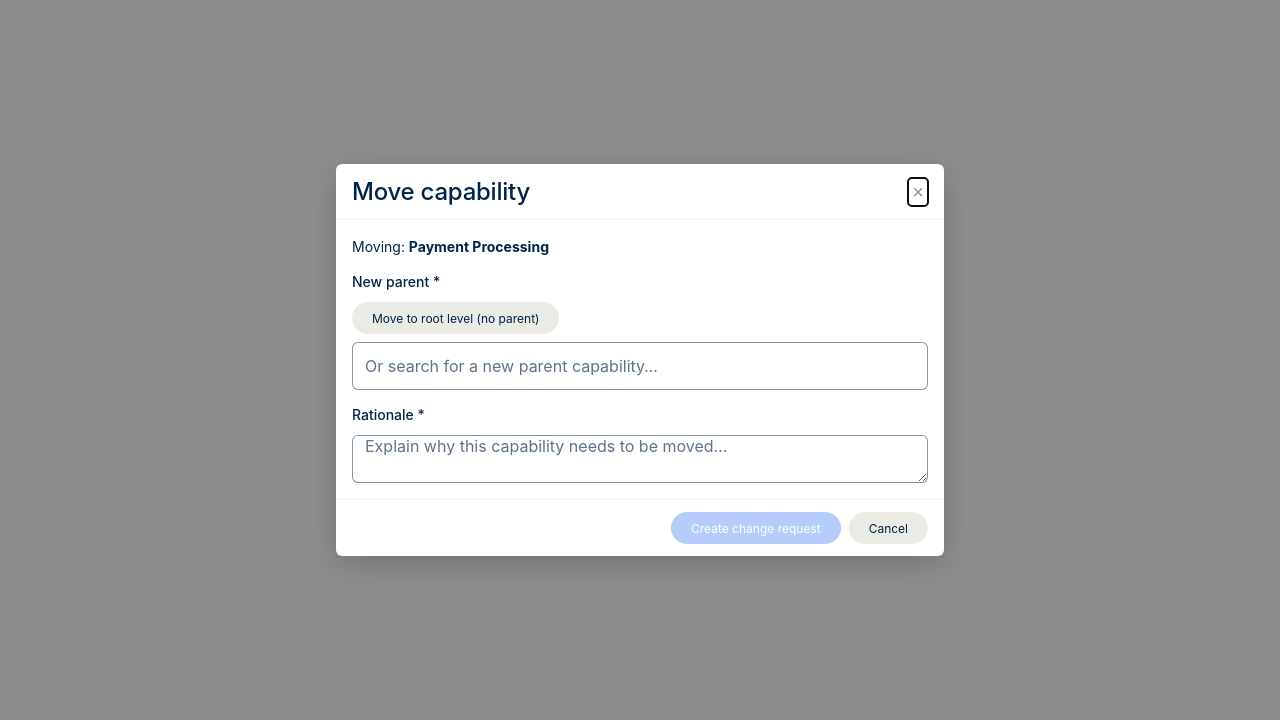
Test case: ReparentDialog › should enable submit after selecting root level
Click the button "Move to root level (no parent)" at (456, 318), box [352,302,560,334]
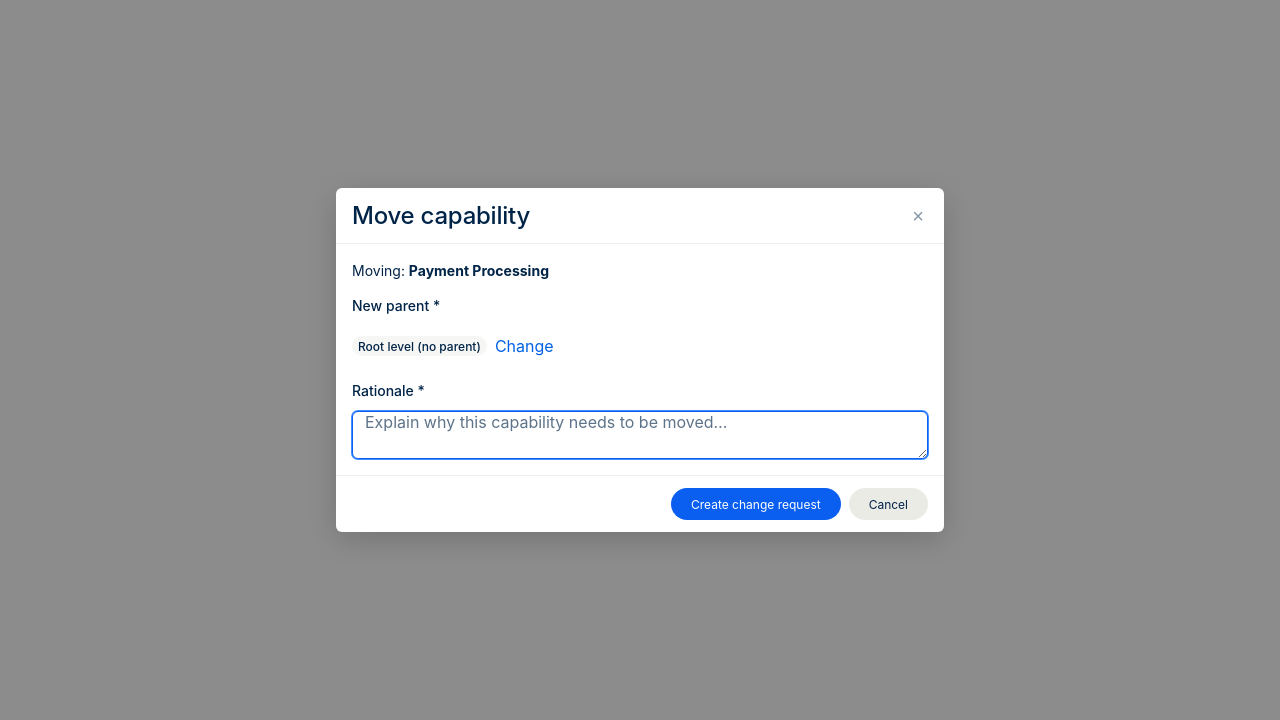
Check: the button "Create change request" is enabled, box [671,488,841,520]
